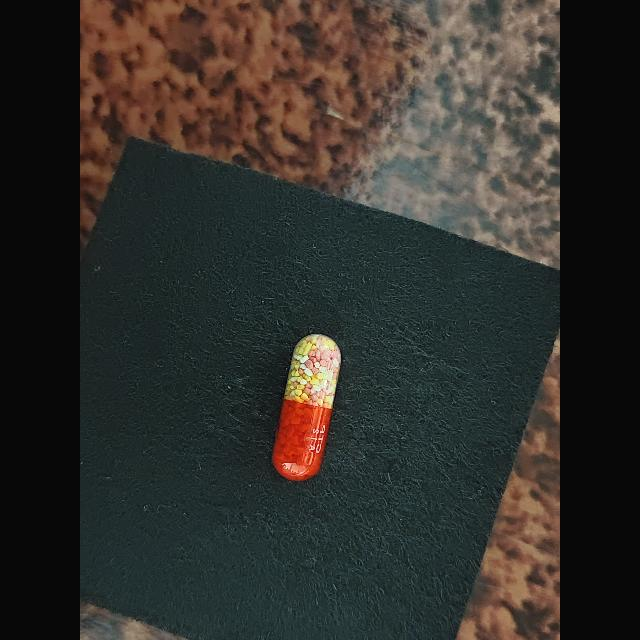Intact Capsule: (272, 334, 341, 481)
